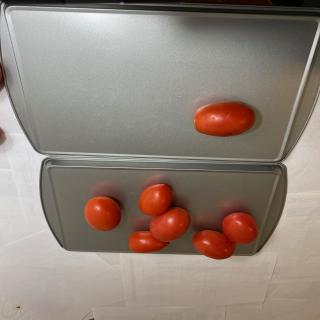Tomato: (193, 101, 256, 137), (149, 207, 191, 242), (84, 196, 122, 231), (192, 230, 236, 260), (222, 212, 259, 245), (138, 183, 172, 216), (128, 231, 170, 253)
